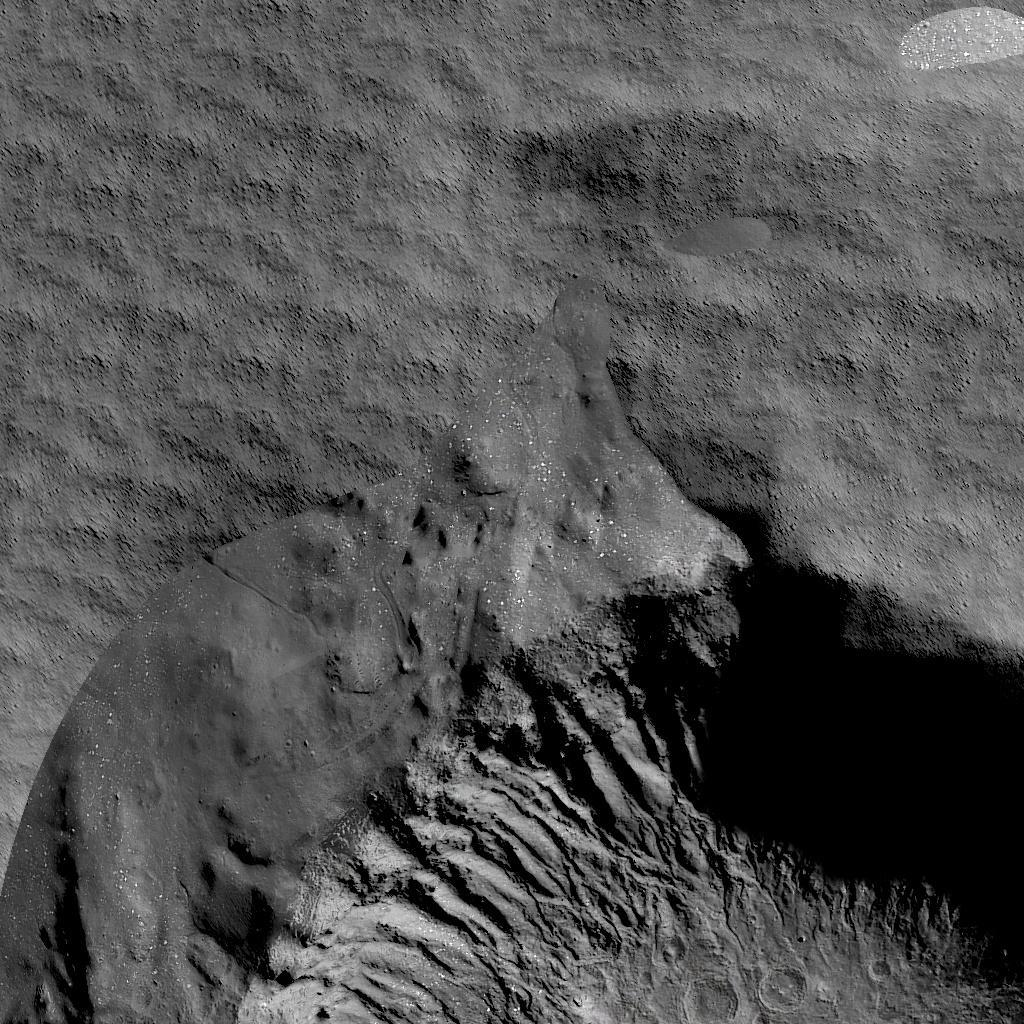Crater: (0, 290, 1024, 1024)
Plan surface: (1, 0, 498, 273)
